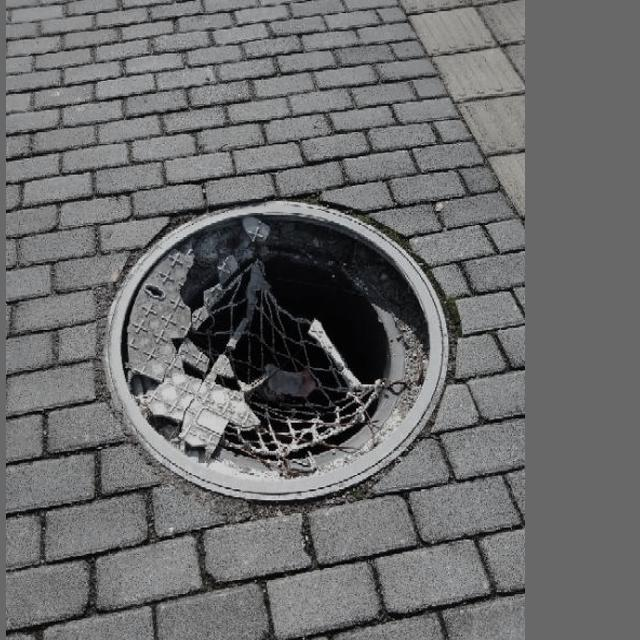broke: (83, 178, 477, 524)
